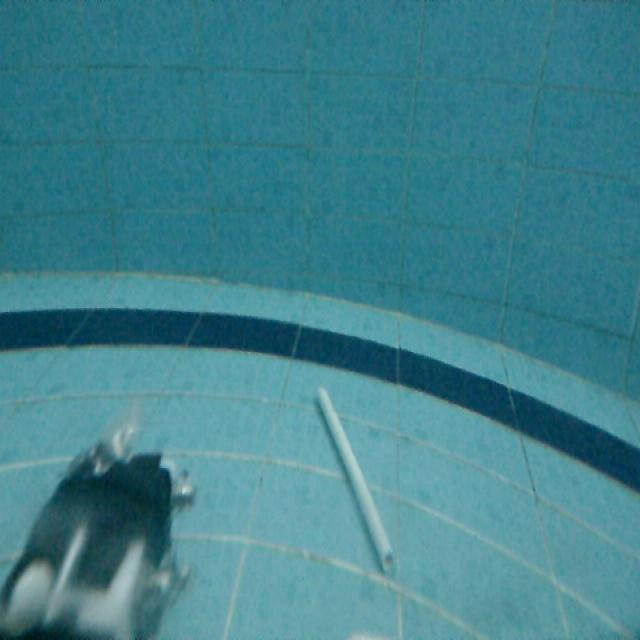Cube: (309, 384, 398, 578)
